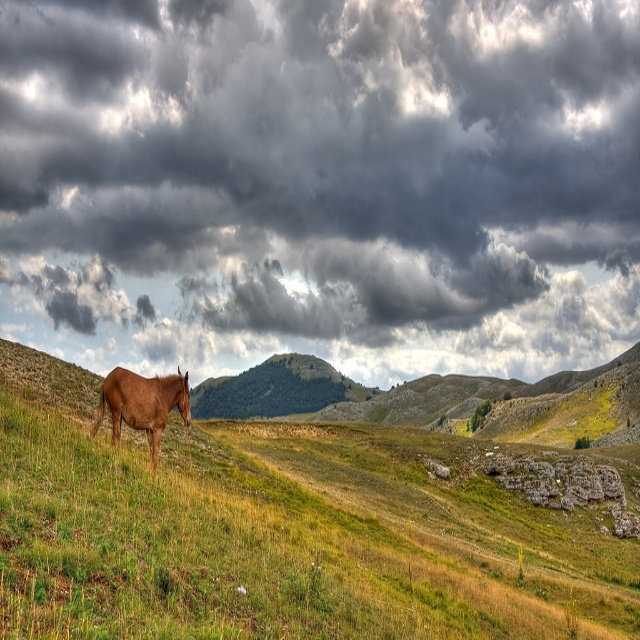Horse: (87, 366, 192, 481)
